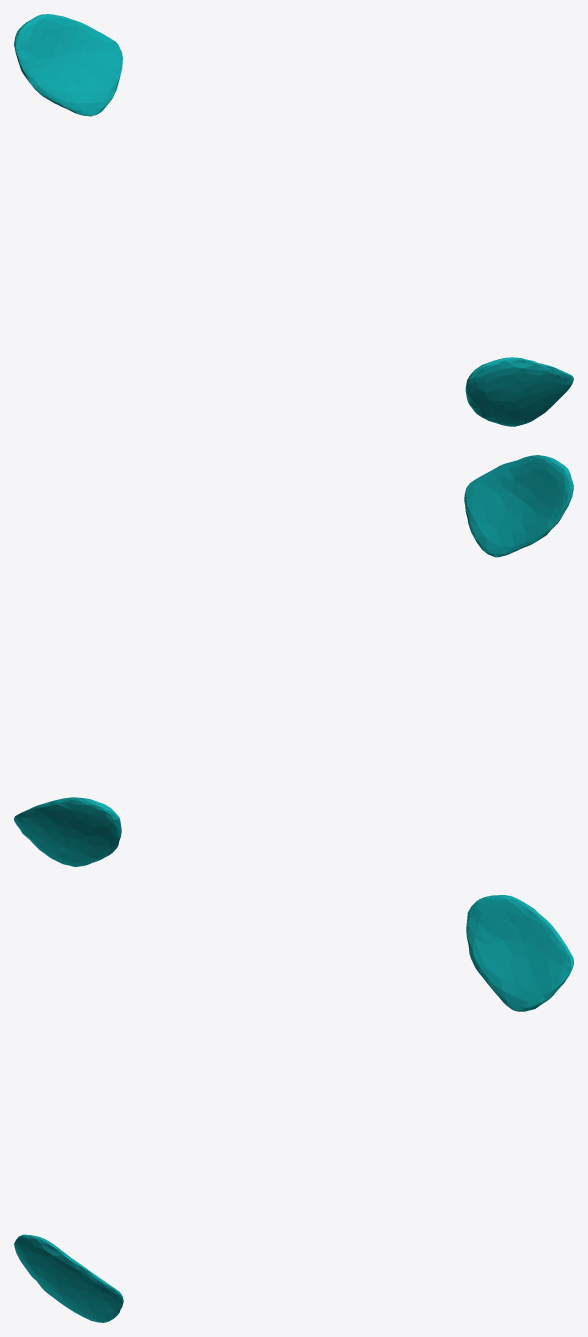
3 views of the same model, one above another, from view 1: azimuth 30°, elevation 25°; view 2: azimuth 150°, elevation 25°; view 3: azimuth 330°, elevation 25° (orthographic).
Visible parts, largest first — view 1: 816.obj; view 2: 816.obj; view 3: 816.obj.
Boxes of the visible parts, x1,y1,x2,y2 form: 816.obj: (14, 14, 573, 426); 816.obj: (14, 455, 573, 866); 816.obj: (14, 895, 573, 1322).
Size of the model in its own units: 1252 by 1035 by 9615.
